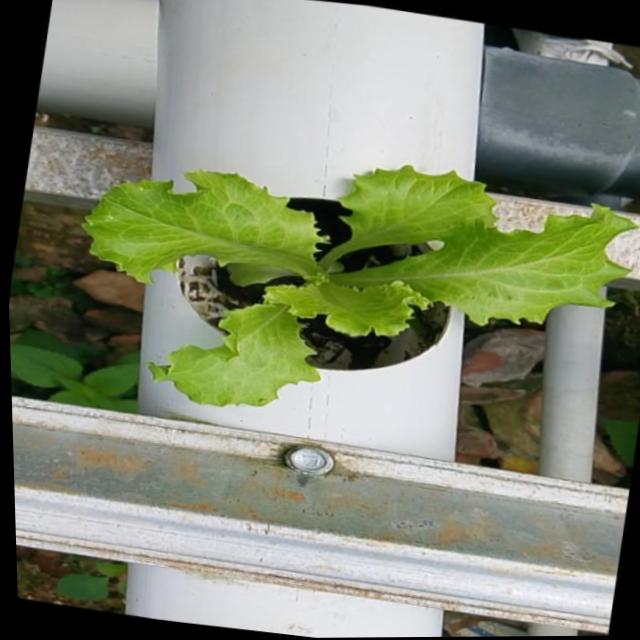Baby: (79, 161, 635, 402)
